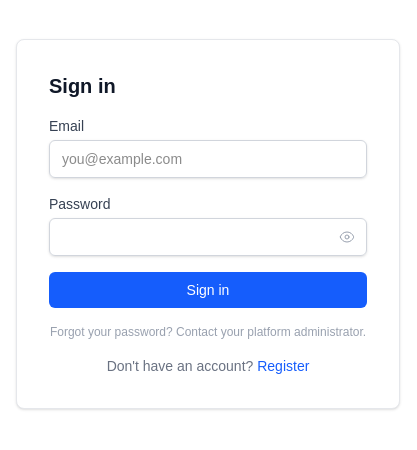
Test case: LoginPage › shows register form when Register is clicked
The image size is (417, 450).
Click the button "Register".
click(283, 366)  # box [257,356,309,376]
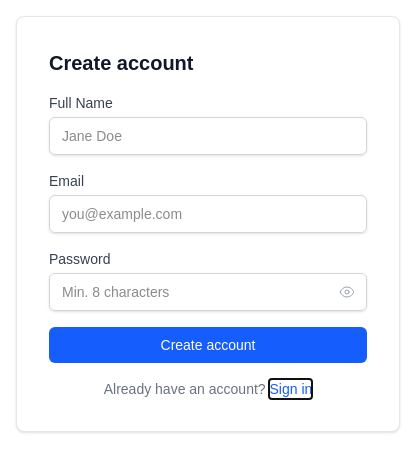
Result: the heading "Create account" is shown at [49,52,194,74]
Result: the field with placeholder "Jane Doe" is shown at [49,117,367,155]
